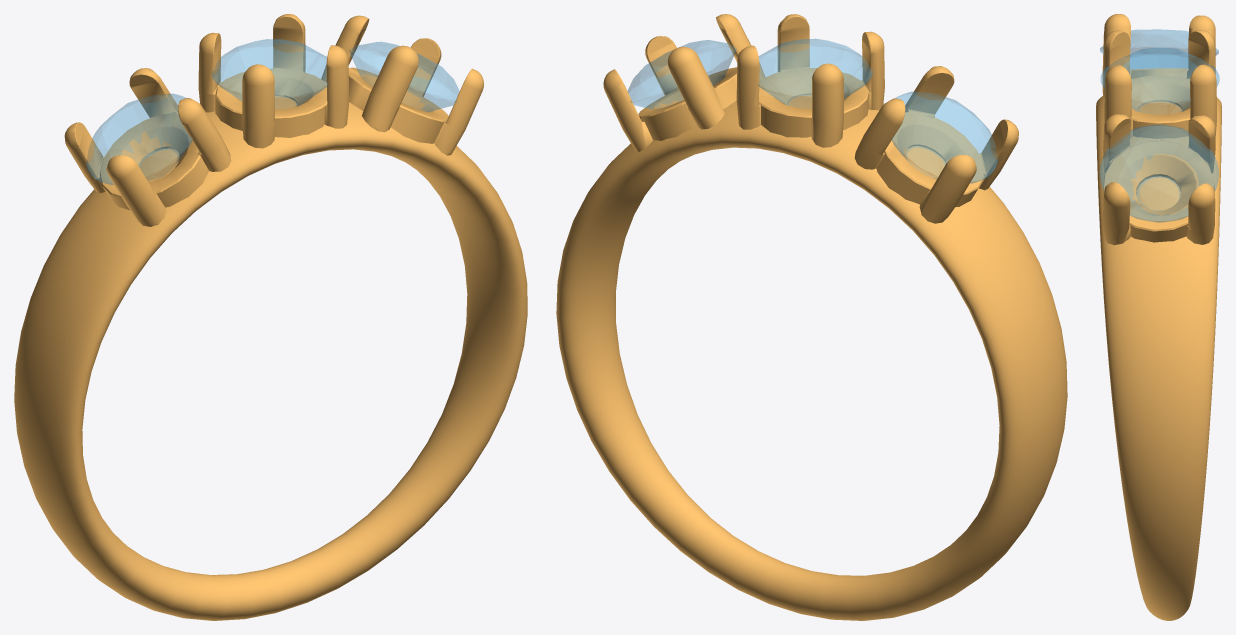
The model's file is ring7.glb.
3 renders of one model, left to right at view 1: azimuth 30°, elevation 25°; view 2: azimuth 150°, elevation 25°; view 3: azimuth 270°, elevation 25°, orthographic. The views are drawn at different scales.
Parts seen in each view (by area): view 1: Torus; view 2: Torus; view 3: Torus.
Boxes of the visible parts, x1=… form: Torus: x1=14, y1=14, x2=527, y2=620; Torus: x1=556, y1=14, x2=1067, y2=620; Torus: x1=1096, y1=14, x2=1221, y2=620.
Bounding box in the file's own units: 2.54 × 2.86 × 0.5956.
